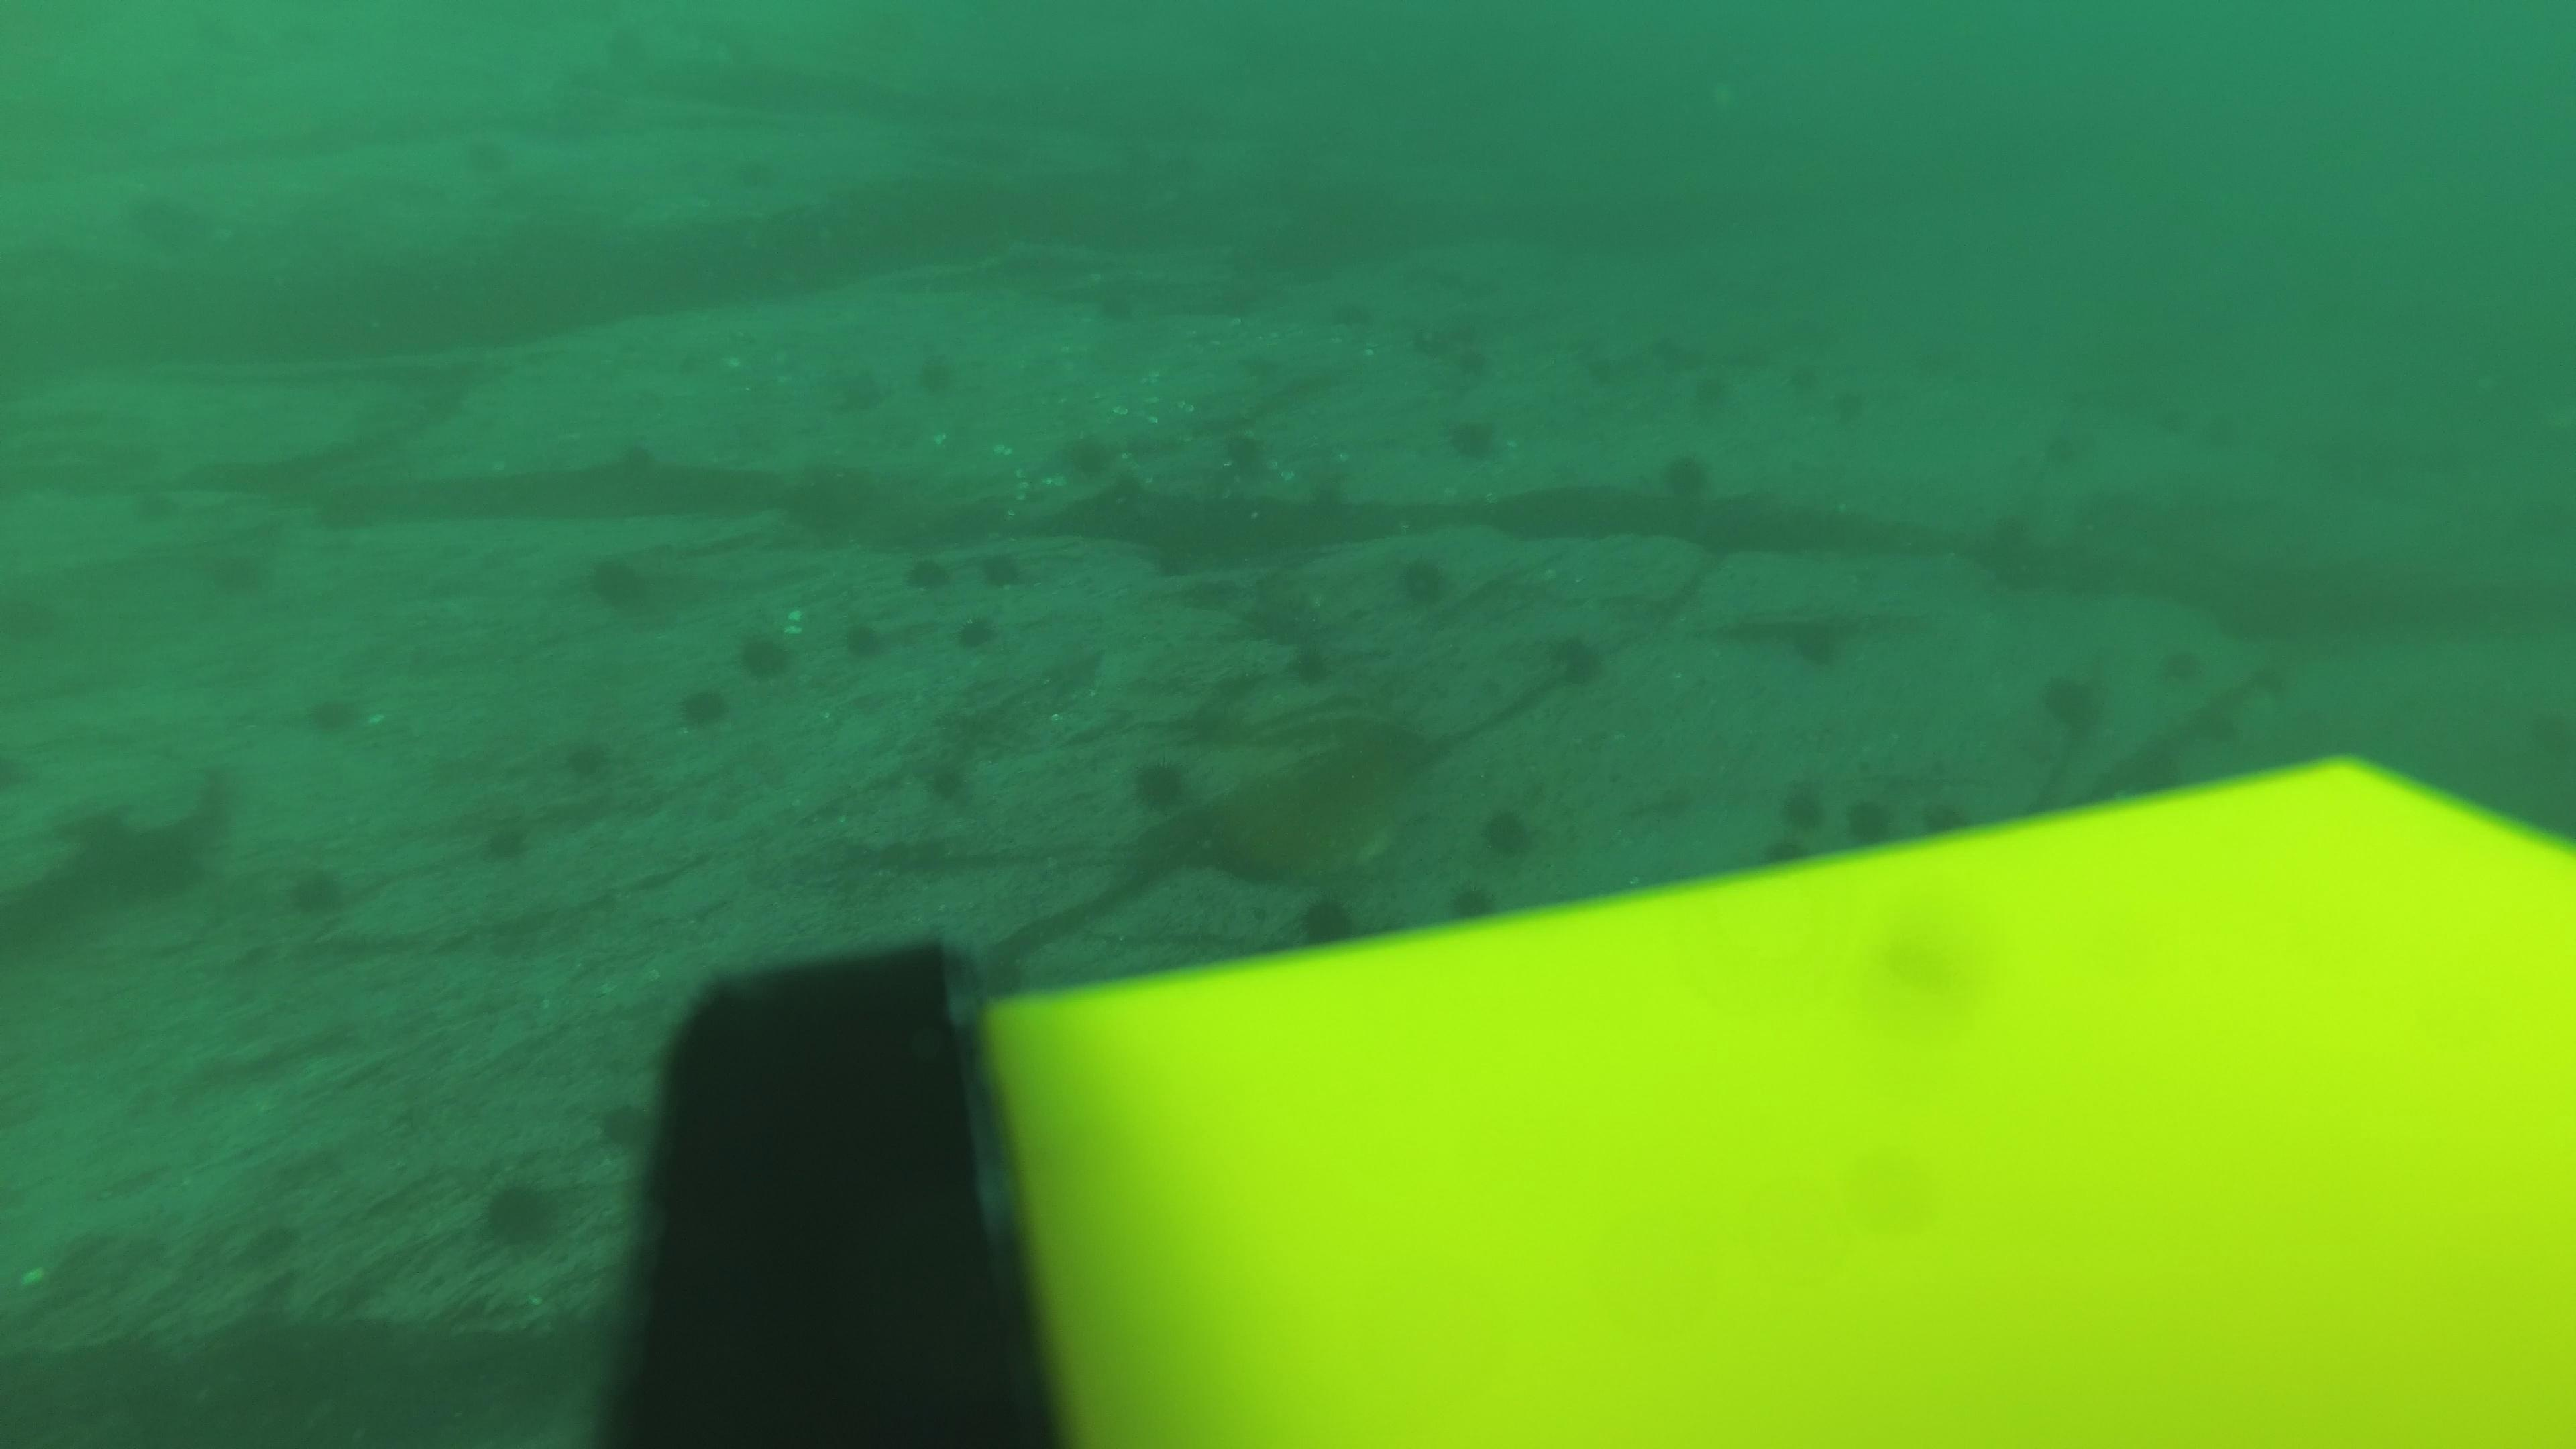echinus: (469, 1169, 571, 1258), (1233, 575, 1336, 655), (575, 545, 667, 619), (2033, 663, 2112, 743), (1288, 886, 1369, 954), (1123, 750, 1200, 821), (1780, 607, 1858, 674), (280, 860, 356, 927), (1539, 626, 1614, 694), (591, 1092, 663, 1159), (1387, 550, 1460, 616), (1474, 800, 1543, 867), (299, 681, 372, 743), (1438, 407, 1509, 469), (731, 621, 798, 685), (586, 14, 653, 78), (133, 191, 200, 255), (469, 809, 538, 870), (1058, 423, 1123, 487), (1838, 789, 1904, 853), (906, 345, 973, 407), (837, 357, 904, 419), (603, 419, 671, 481), (442, 122, 510, 184), (715, 134, 782, 196), (1077, 272, 1145, 334), (1201, 264, 1269, 326), (1226, 327, 1293, 389), (1323, 283, 1391, 345), (313, 474, 380, 536), (198, 538, 265, 600), (122, 471, 189, 533), (1769, 777, 1833, 840), (1212, 423, 1277, 485), (916, 754, 980, 814), (1654, 448, 1718, 506), (674, 679, 732, 736), (557, 731, 616, 786), (1283, 637, 1339, 690), (837, 612, 890, 667), (899, 548, 957, 598), (1686, 366, 1739, 419), (2028, 416, 2081, 469), (1821, 379, 1874, 430), (1782, 352, 1835, 403), (1449, 340, 1502, 391), (1456, 267, 1509, 318), (1982, 497, 2035, 548), (2155, 626, 2208, 678), (1916, 794, 1969, 846), (1445, 874, 1499, 925), (2192, 702, 2245, 754), (2201, 395, 2254, 446), (2144, 391, 2197, 442), (1647, 331, 1700, 382), (975, 545, 1030, 594), (950, 609, 1003, 658)
